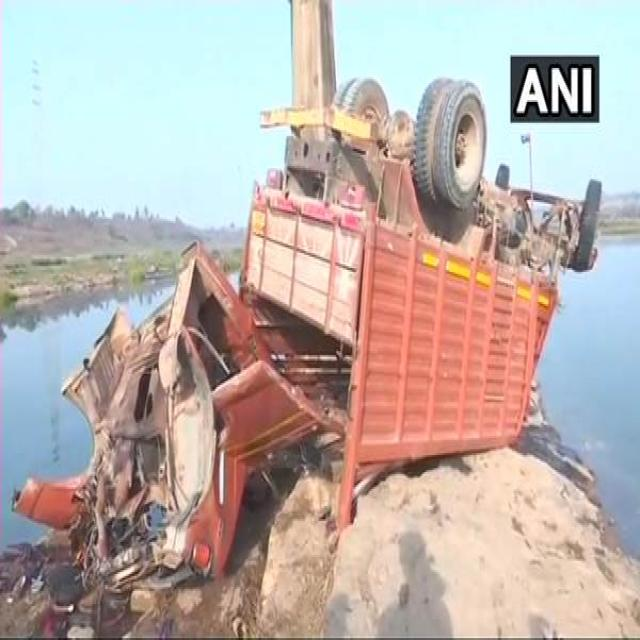accident: (16, 1, 600, 603)
